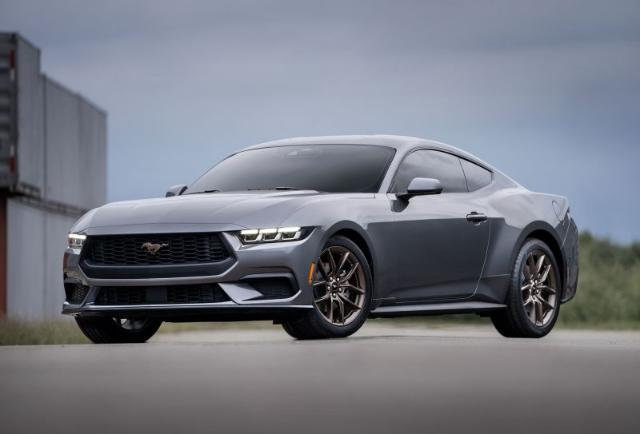ford-mustang: (60, 134, 580, 344)
